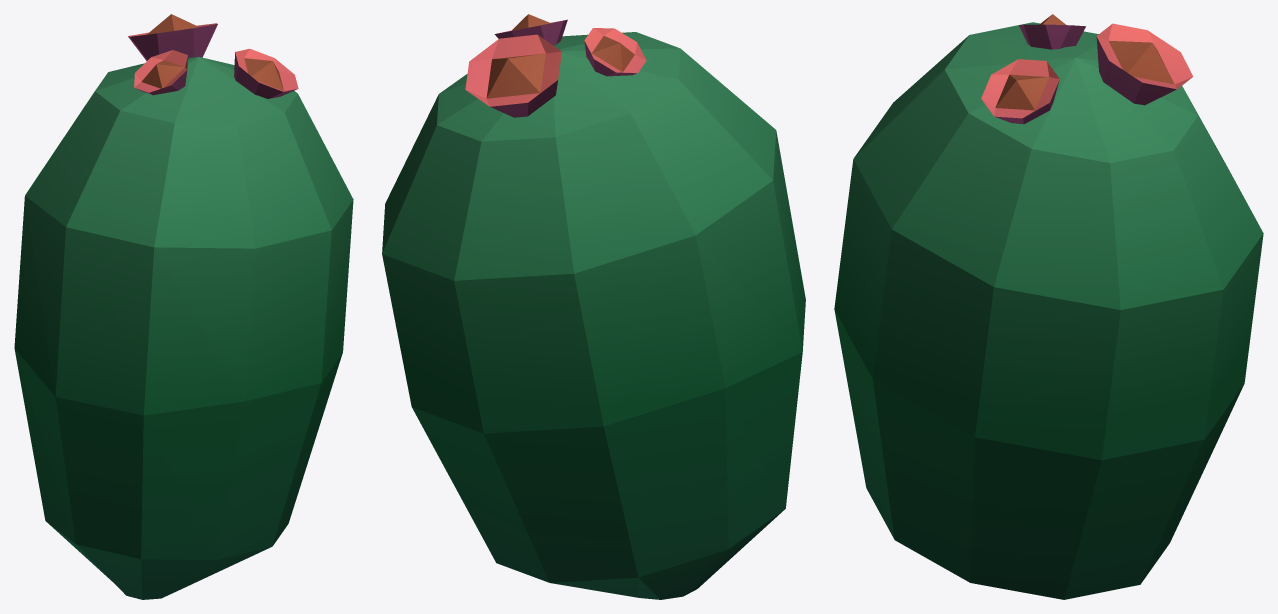
The model's file is Desert_Plant_05_Small_0_1.fbx.
The picture shows the model from 3 angles, left to right: view 1: azimuth 30°, elevation 25°; view 2: azimuth 150°, elevation 25°; view 3: azimuth 270°, elevation 25°; orthographic projection. The views are drawn at different scales.
Parts seen in each view (by area): view 1: Desert_plant_002.001; view 2: Desert_plant_002.001; view 3: Desert_plant_002.001.
Part boxes in pixels (x1,y1,x2,y2): Desert_plant_002.001: (14,14,353,599); Desert_plant_002.001: (382,14,805,599); Desert_plant_002.001: (834,14,1263,599).
Bounding box in the file's own units: 103 × 158 × 106.
